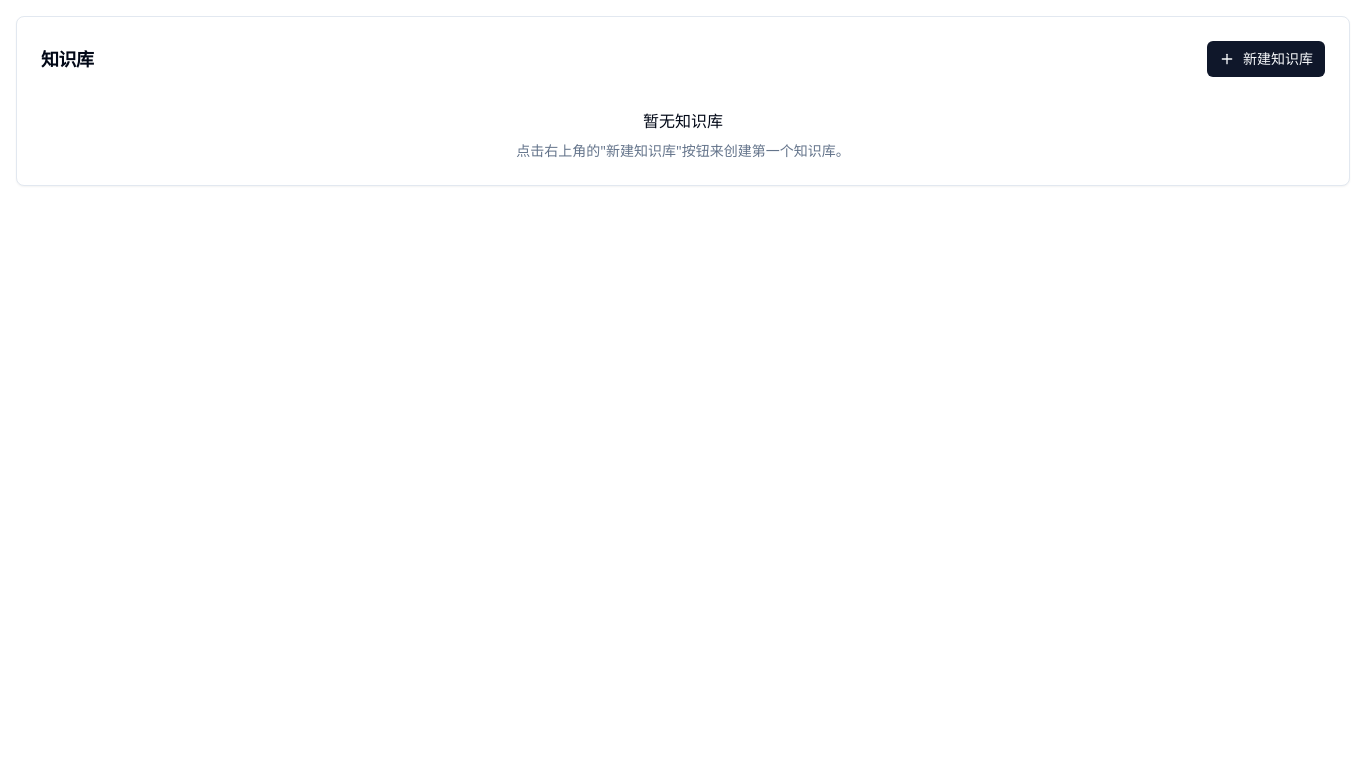
Test: KbPage › opens the create dialog when the create button is clicked
Click the button with test id "kb-create-open" at (1266, 59), box [1207,41,1325,77]
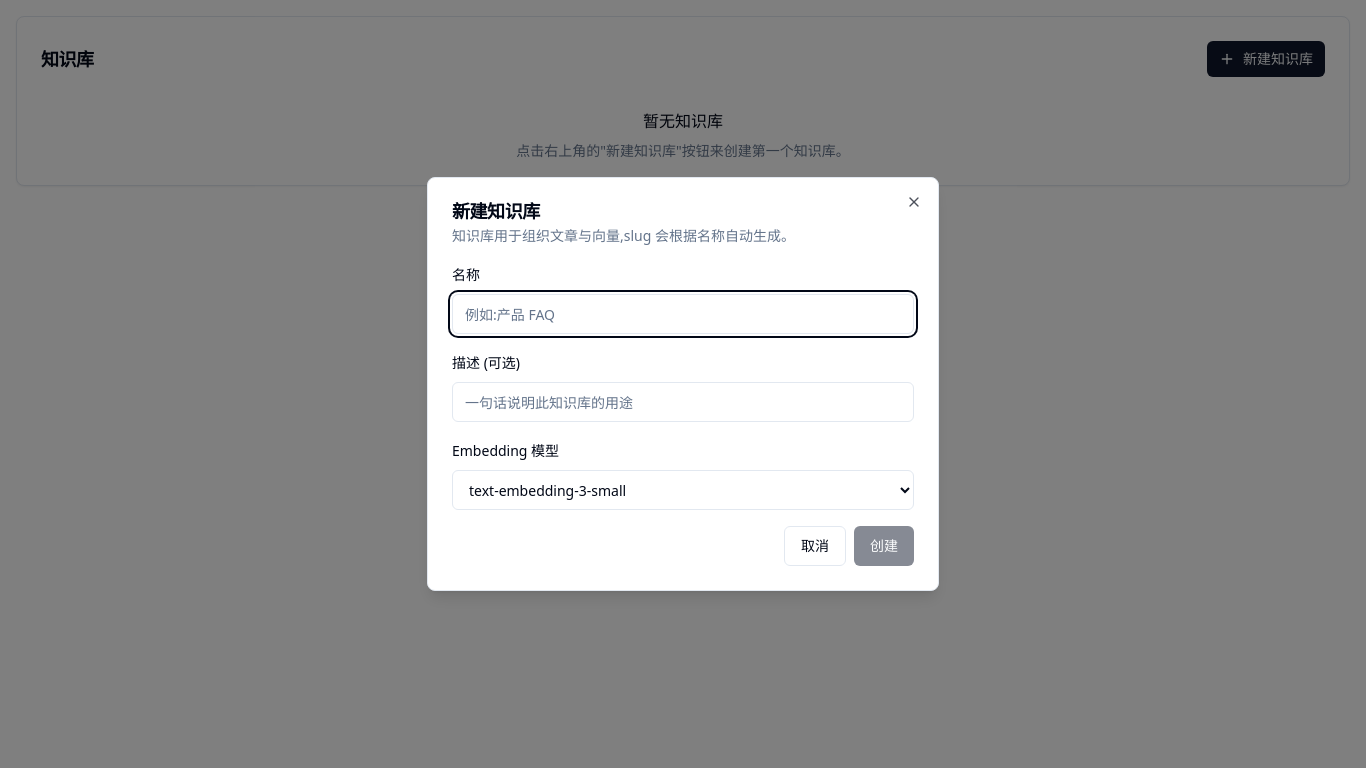
Expected: the dialog with test id "kb-create-dialog" is shown, [427,177,939,591]
